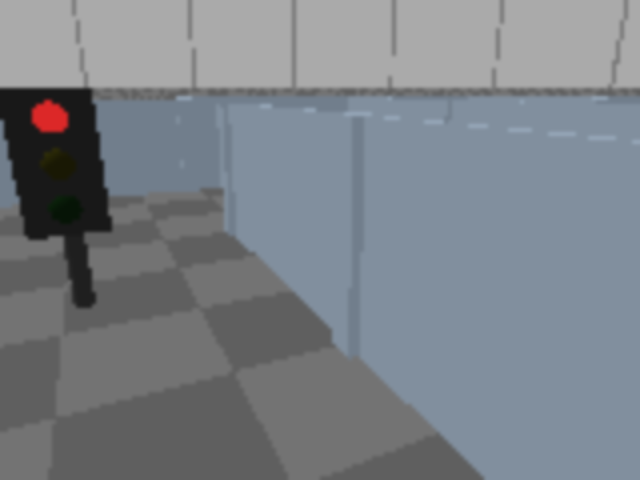traffic_light: (0, 74, 124, 326)
